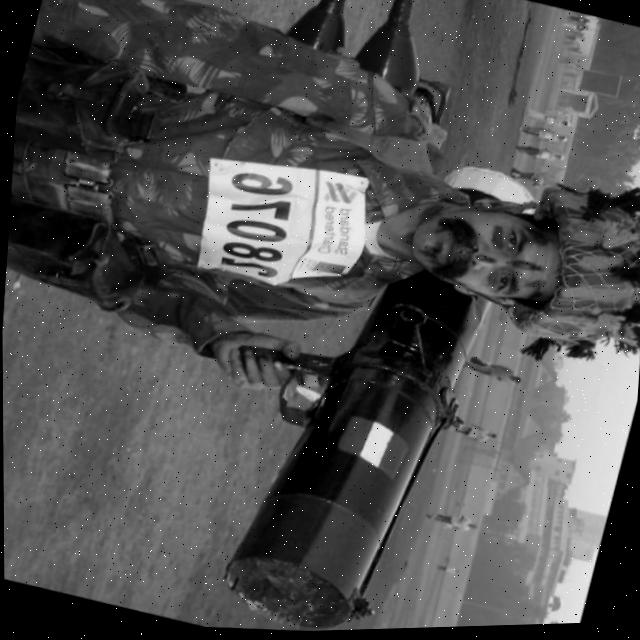rocket: (203, 250, 510, 635)
